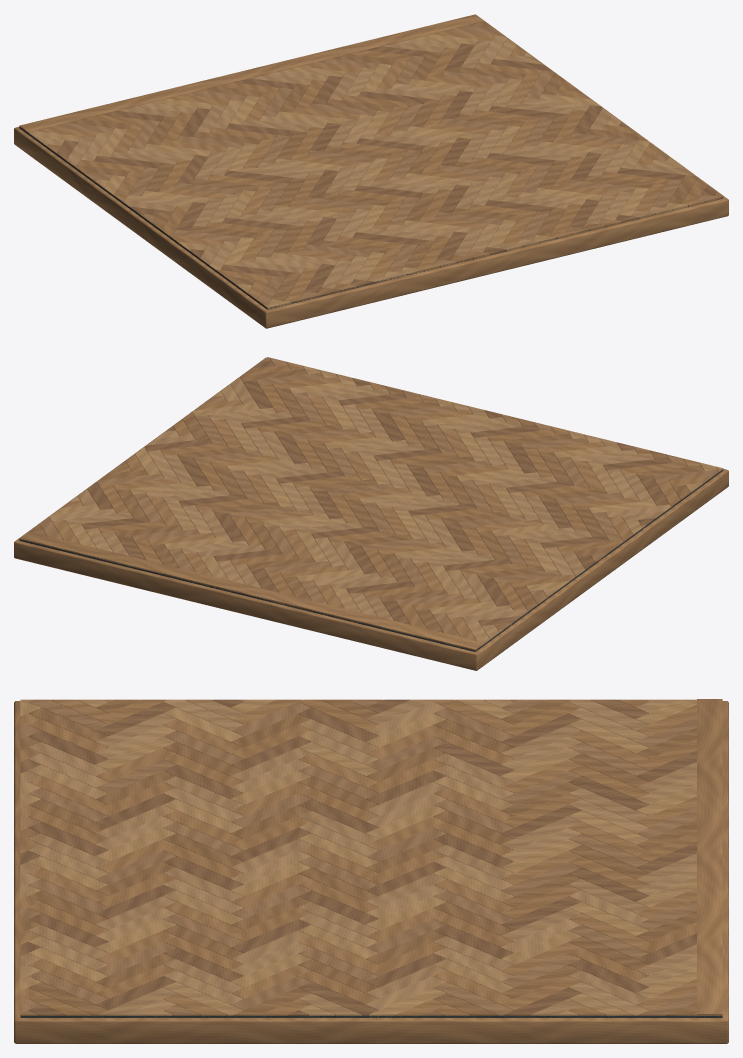
File: tidy-gaming-room.glb
The picture shows the model from 3 angles, top to bottom: view 1: azimuth 30°, elevation 25°; view 2: azimuth 150°, elevation 25°; view 3: azimuth 270°, elevation 25°; orthographic projection. The views are drawn at different scales.
Parts seen in each view (by area): view 1: gaming_continuous_floor_mesh; view 2: gaming_continuous_floor_mesh; view 3: gaming_continuous_floor_mesh.
Boxes of the visible parts, x1,y1,x2,y2 form: gaming_continuous_floor_mesh: [14, 14, 728, 328]; gaming_continuous_floor_mesh: [14, 357, 728, 670]; gaming_continuous_floor_mesh: [14, 699, 728, 1043].
Size of the model in its own units: 1.71 by 0.0695 by 1.61.
10 materials, 10 textured.
